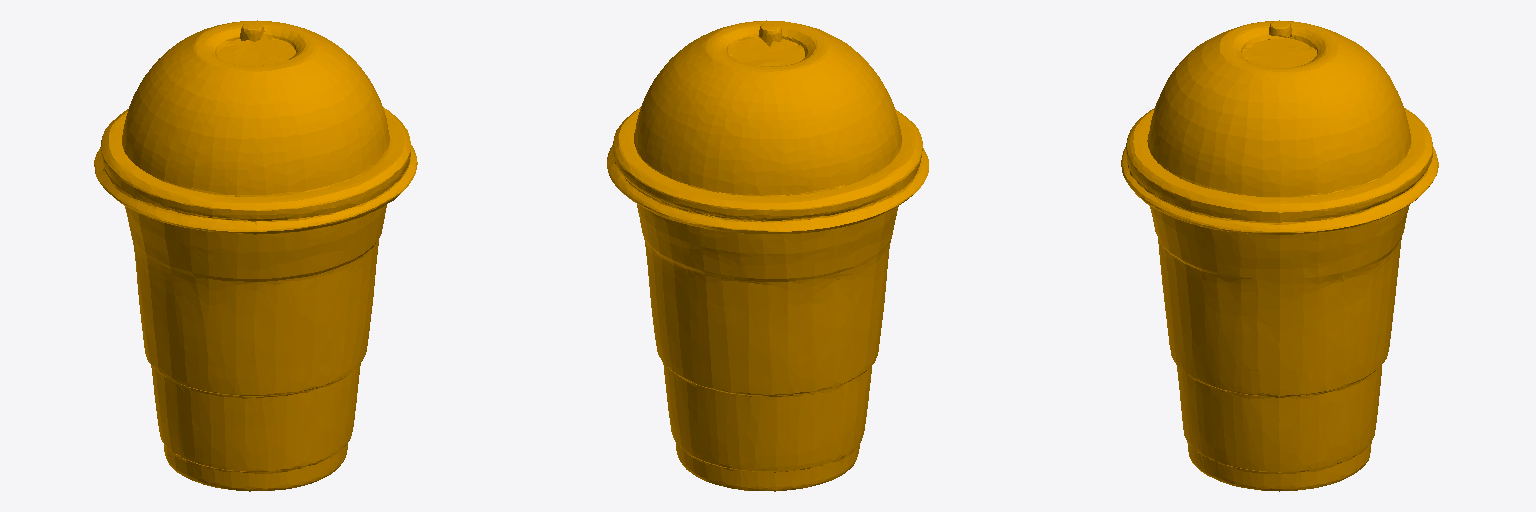
The robot description file, URDF, robot "sample":
<?xml version="1.0" ?>
<robot name="sample">
   <link name="sample">
      <visual>
         <origin xyz="0 0 0" rpy="1.5708 0.0 0.0"/>
         <geometry>
            <mesh filename="mesh/sample.obj" scale="1.0 1.0 1.0"/>
         </geometry>
      </visual>
      <collision>
         <origin xyz="0 0 0" rpy="1.5708 0.0 0.0"/>
         <geometry>
            <mesh filename="mesh/sample_collision.obj" scale="1.0 1.0 1.0"/>
         </geometry>
         <gazebo>
            <mu1>0.50</mu1>
            <mu2>0.40</mu2>
         </gazebo>
      </collision>
      <inertial>
         <mass value="0.3000"/>
         <origin xyz="0 0 0"/>
         <inertia ixx="1.0" ixy="0.0" ixz="0.0" iyy="1.0" iyz="0.0" izz="1.0"/>
      </inertial>
      <extra_info>
         <scale>0.175000</scale>
         <version>v0.1.7</version>
         <category>bottle drink</category>
         <description>yellow plastic bottle with dome lid and drink inside</description>
         <min_height>0.15</min_height>
         <max_height>0.2</max_height>
         <real_height>0.175</real_height>
         <min_mass>0.2</min_mass>
         <max_mass>0.4</max_mass>
         <color>yellow</color>
         <rgba>[1.0, 1.0, 0.0, 1.0]</rgba>
         <generate_time>20260526164638</generate_time>
         <gs_model>mesh/sample_gs.ply</gs_model>
      </extra_info>
   </link>
   <custom_data>
      <quality>
         <MeshGeoChecker>YES</MeshGeoChecker>
         <ImageSegChecker>NO, background artifacts present, object not cleanly isolated.</ImageSegChecker>
         <ImageAestheticChecker>5.141100168228149</ImageAestheticChecker>
         <overall>NO</overall>
      </quality>
   </custom_data>
</robot>

--- What the picture shows (computed from the rendered views, not written in the file) ---
3 views of the same robot in one strip: view 1: azimuth 30°, elevation 25°; view 2: azimuth 150°, elevation 25°; view 3: azimuth 270°, elevation 25° (orthographic).
Robot: sample — 1 links, 0 joints (none); root link sample; default pose: all joints at 0.
Links seen in each view (by area): view 1: sample; view 2: sample; view 3: sample.
Link boxes in pixels (x1,y1,x2,y2): sample: (94, 20, 417, 491); sample: (607, 20, 928, 491); sample: (1121, 20, 1438, 491).
Bounding box of the posed robot: 0.1199 × 0.1178 × 0.175 m (x, y, z).
Meshes: 1 distinct files referenced, 1 mesh visuals loaded (1 OBJ).
